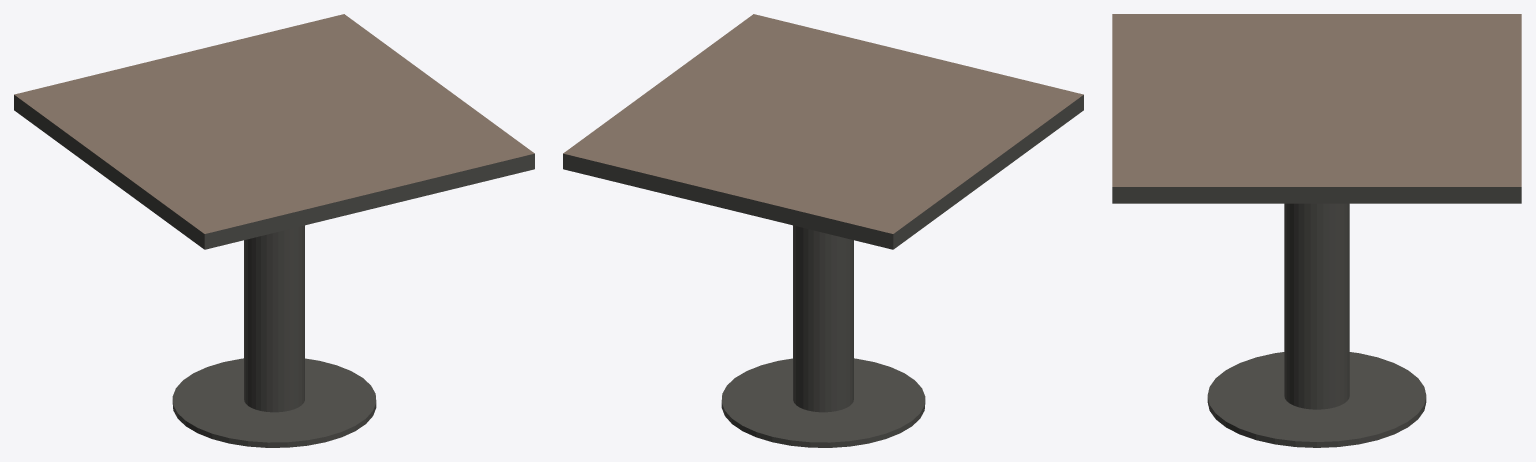
Rendered from BarTable.fbx.
The picture shows the model from 3 angles, left to right: view 1: azimuth 30°, elevation 25°; view 2: azimuth 150°, elevation 25°; view 3: azimuth 270°, elevation 25°; orthographic projection. The views are drawn at different scales.
Parts seen in each view (by area): view 1: Bar Table; view 2: Bar Table; view 3: Bar Table.
Part boxes in pixels (<box>): Bar Table: <box>14,14,534,447</box>; Bar Table: <box>563,14,1083,447</box>; Bar Table: <box>1112,14,1521,447</box>.
Size of the model in its own units: 18.68 by 15.18 by 18.68.
